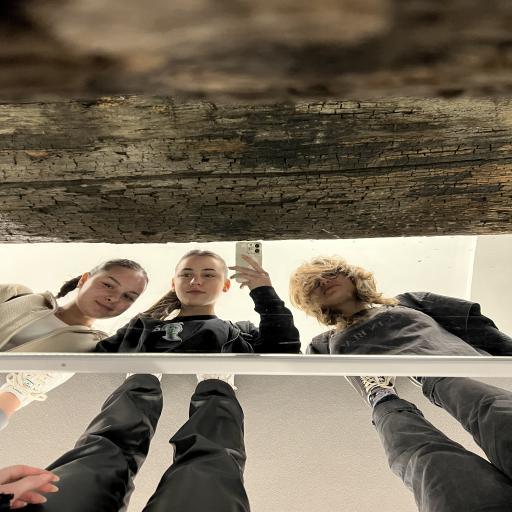marija: (90, 260, 131, 320)
masa: (176, 252, 219, 305)
